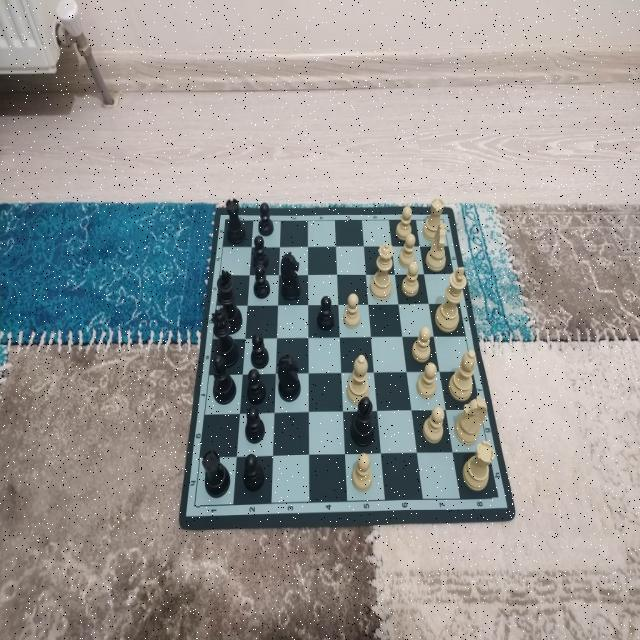corner: (492, 490, 504, 506), (190, 500, 200, 511), (439, 215, 448, 225), (221, 216, 229, 226)
